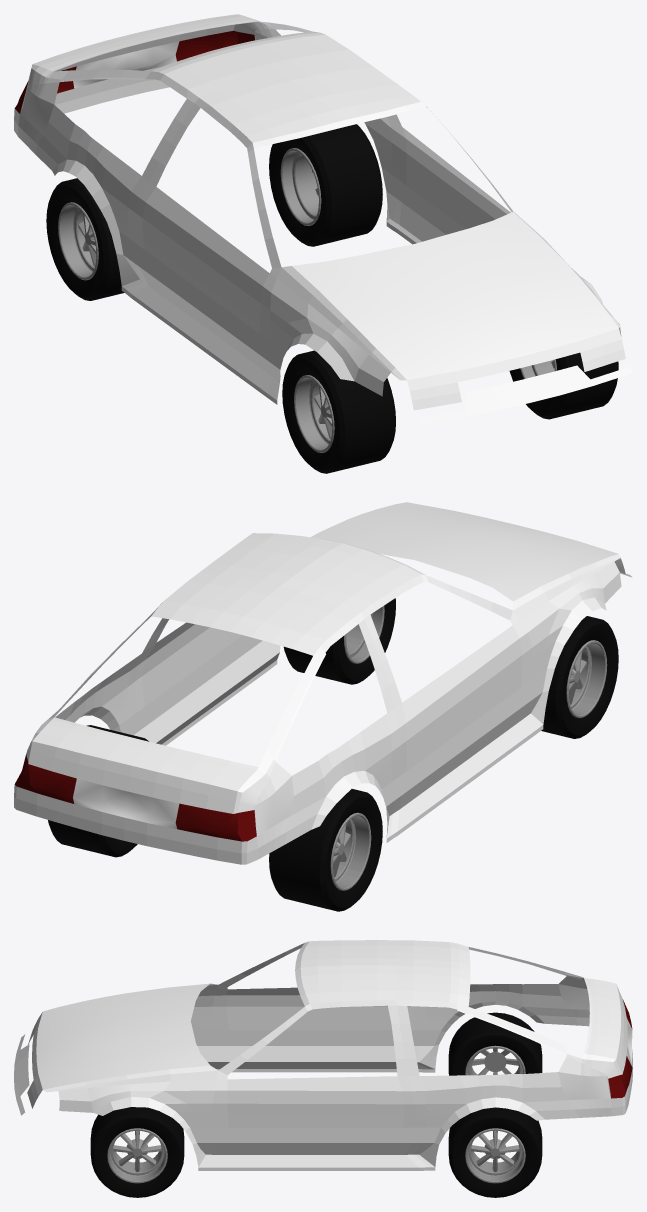
The picture shows the model from 3 angles, top to bottom: view 1: azimuth 30°, elevation 25°; view 2: azimuth 150°, elevation 25°; view 3: azimuth 270°, elevation 25°; orthographic projection. The views are drawn at different scales.
Parts seen in each view (by area): view 1: Plane005, WheelRLModel, WheelFRModel, WheelRRModel, WheelFLModel, RimRRModel, RimRLModel, RimFRModel; view 2: Plane005, WheelRRModel, WheelFRModel, WheelFLModel, RimFRModel, RimRRModel, WheelRLModel, RimFLModel; view 3: Plane005, WheelFLModel, WheelRLModel, WheelRRModel, RimFLModel, RimRLModel, RimRRModel.
Boxes of the visible parts, x1,y1,x2,y2 form: Plane005: [14, 14, 632, 424]; WheelRLModel: [269, 124, 382, 246]; WheelFRModel: [282, 350, 395, 473]; WheelRRModel: [46, 178, 124, 300]; WheelFLModel: [509, 352, 618, 419]; RimRRModel: [58, 202, 98, 280]; RimRLModel: [280, 148, 321, 225]; RimFRModel: [294, 375, 334, 452]; Plane005: [14, 502, 632, 864]; WheelRRModel: [269, 789, 382, 911]; WheelFRModel: [541, 616, 618, 738]; WheelFLModel: [283, 598, 395, 684]; RimFRModel: [566, 640, 607, 718]; RimRRModel: [330, 812, 371, 890]; WheelRLModel: [48, 725, 148, 857]; RimFLModel: [344, 606, 384, 663]; Plane005: [14, 940, 632, 1170]; WheelFLModel: [90, 1107, 184, 1197]; WheelRLModel: [448, 1107, 542, 1197]; WheelRRModel: [448, 1012, 542, 1075]; RimFLModel: [107, 1128, 167, 1183]; RimRLModel: [465, 1128, 525, 1183]; RimRRModel: [465, 1045, 525, 1075].
Size of the model in its own units: 163 by 134 by 413.
